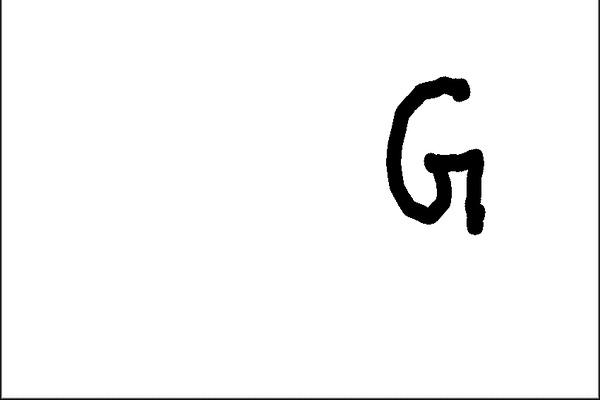G: (380, 72, 489, 240)
